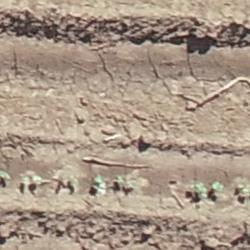cotton: (195, 184, 206, 193), (213, 181, 222, 190), (239, 184, 247, 193), (117, 177, 125, 185), (94, 175, 101, 184), (1, 171, 9, 178), (33, 176, 41, 181), (21, 175, 27, 181)
